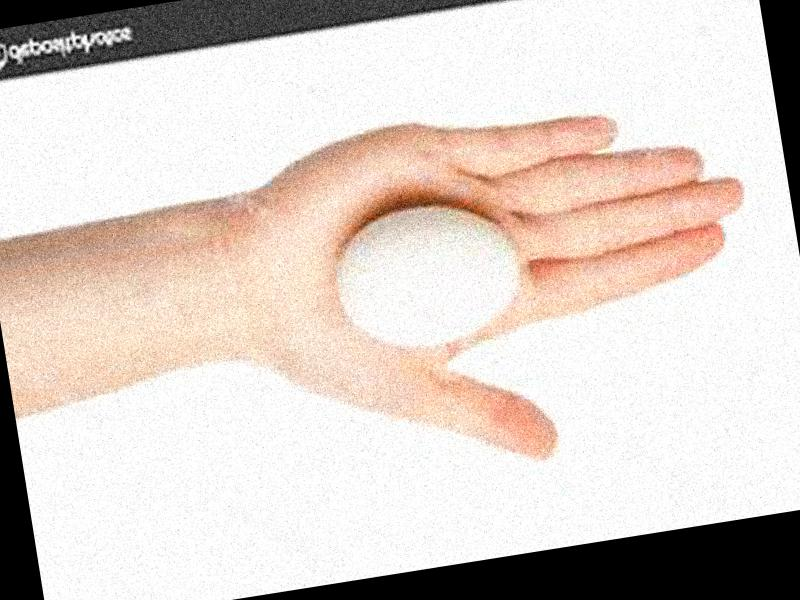Eggs: (329, 199, 529, 354)
